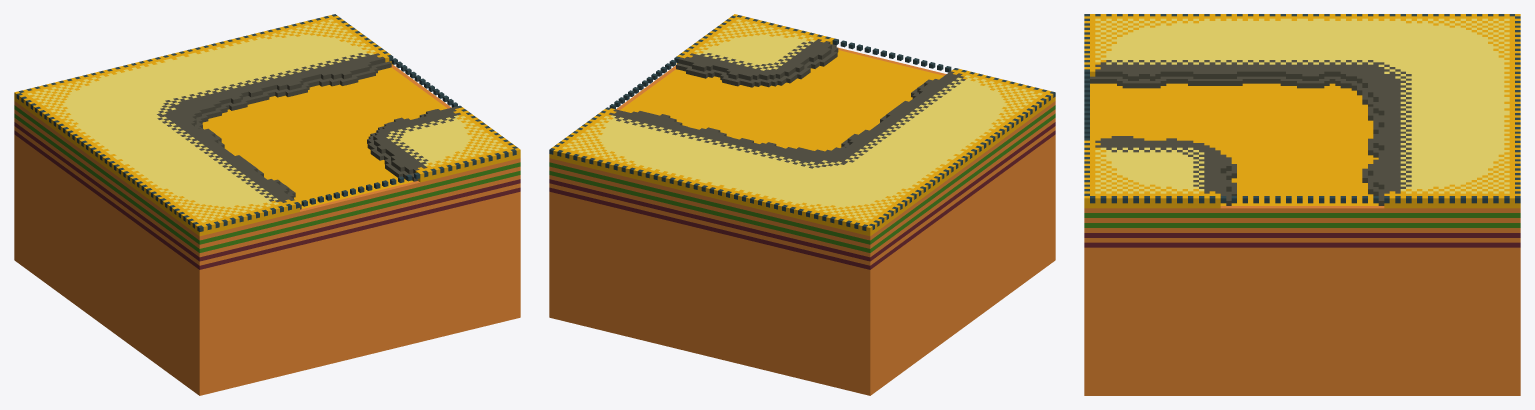
The model's file is sand_river_2_tile.obj.
3 renders of one model, left to right at view 1: azimuth 30°, elevation 25°; view 2: azimuth 150°, elevation 25°; view 3: azimuth 270°, elevation 25°, orthographic. The views are drawn at different scales.
Size of the model in its own units: 8 by 4 by 8.
1 material, 1 textured.
